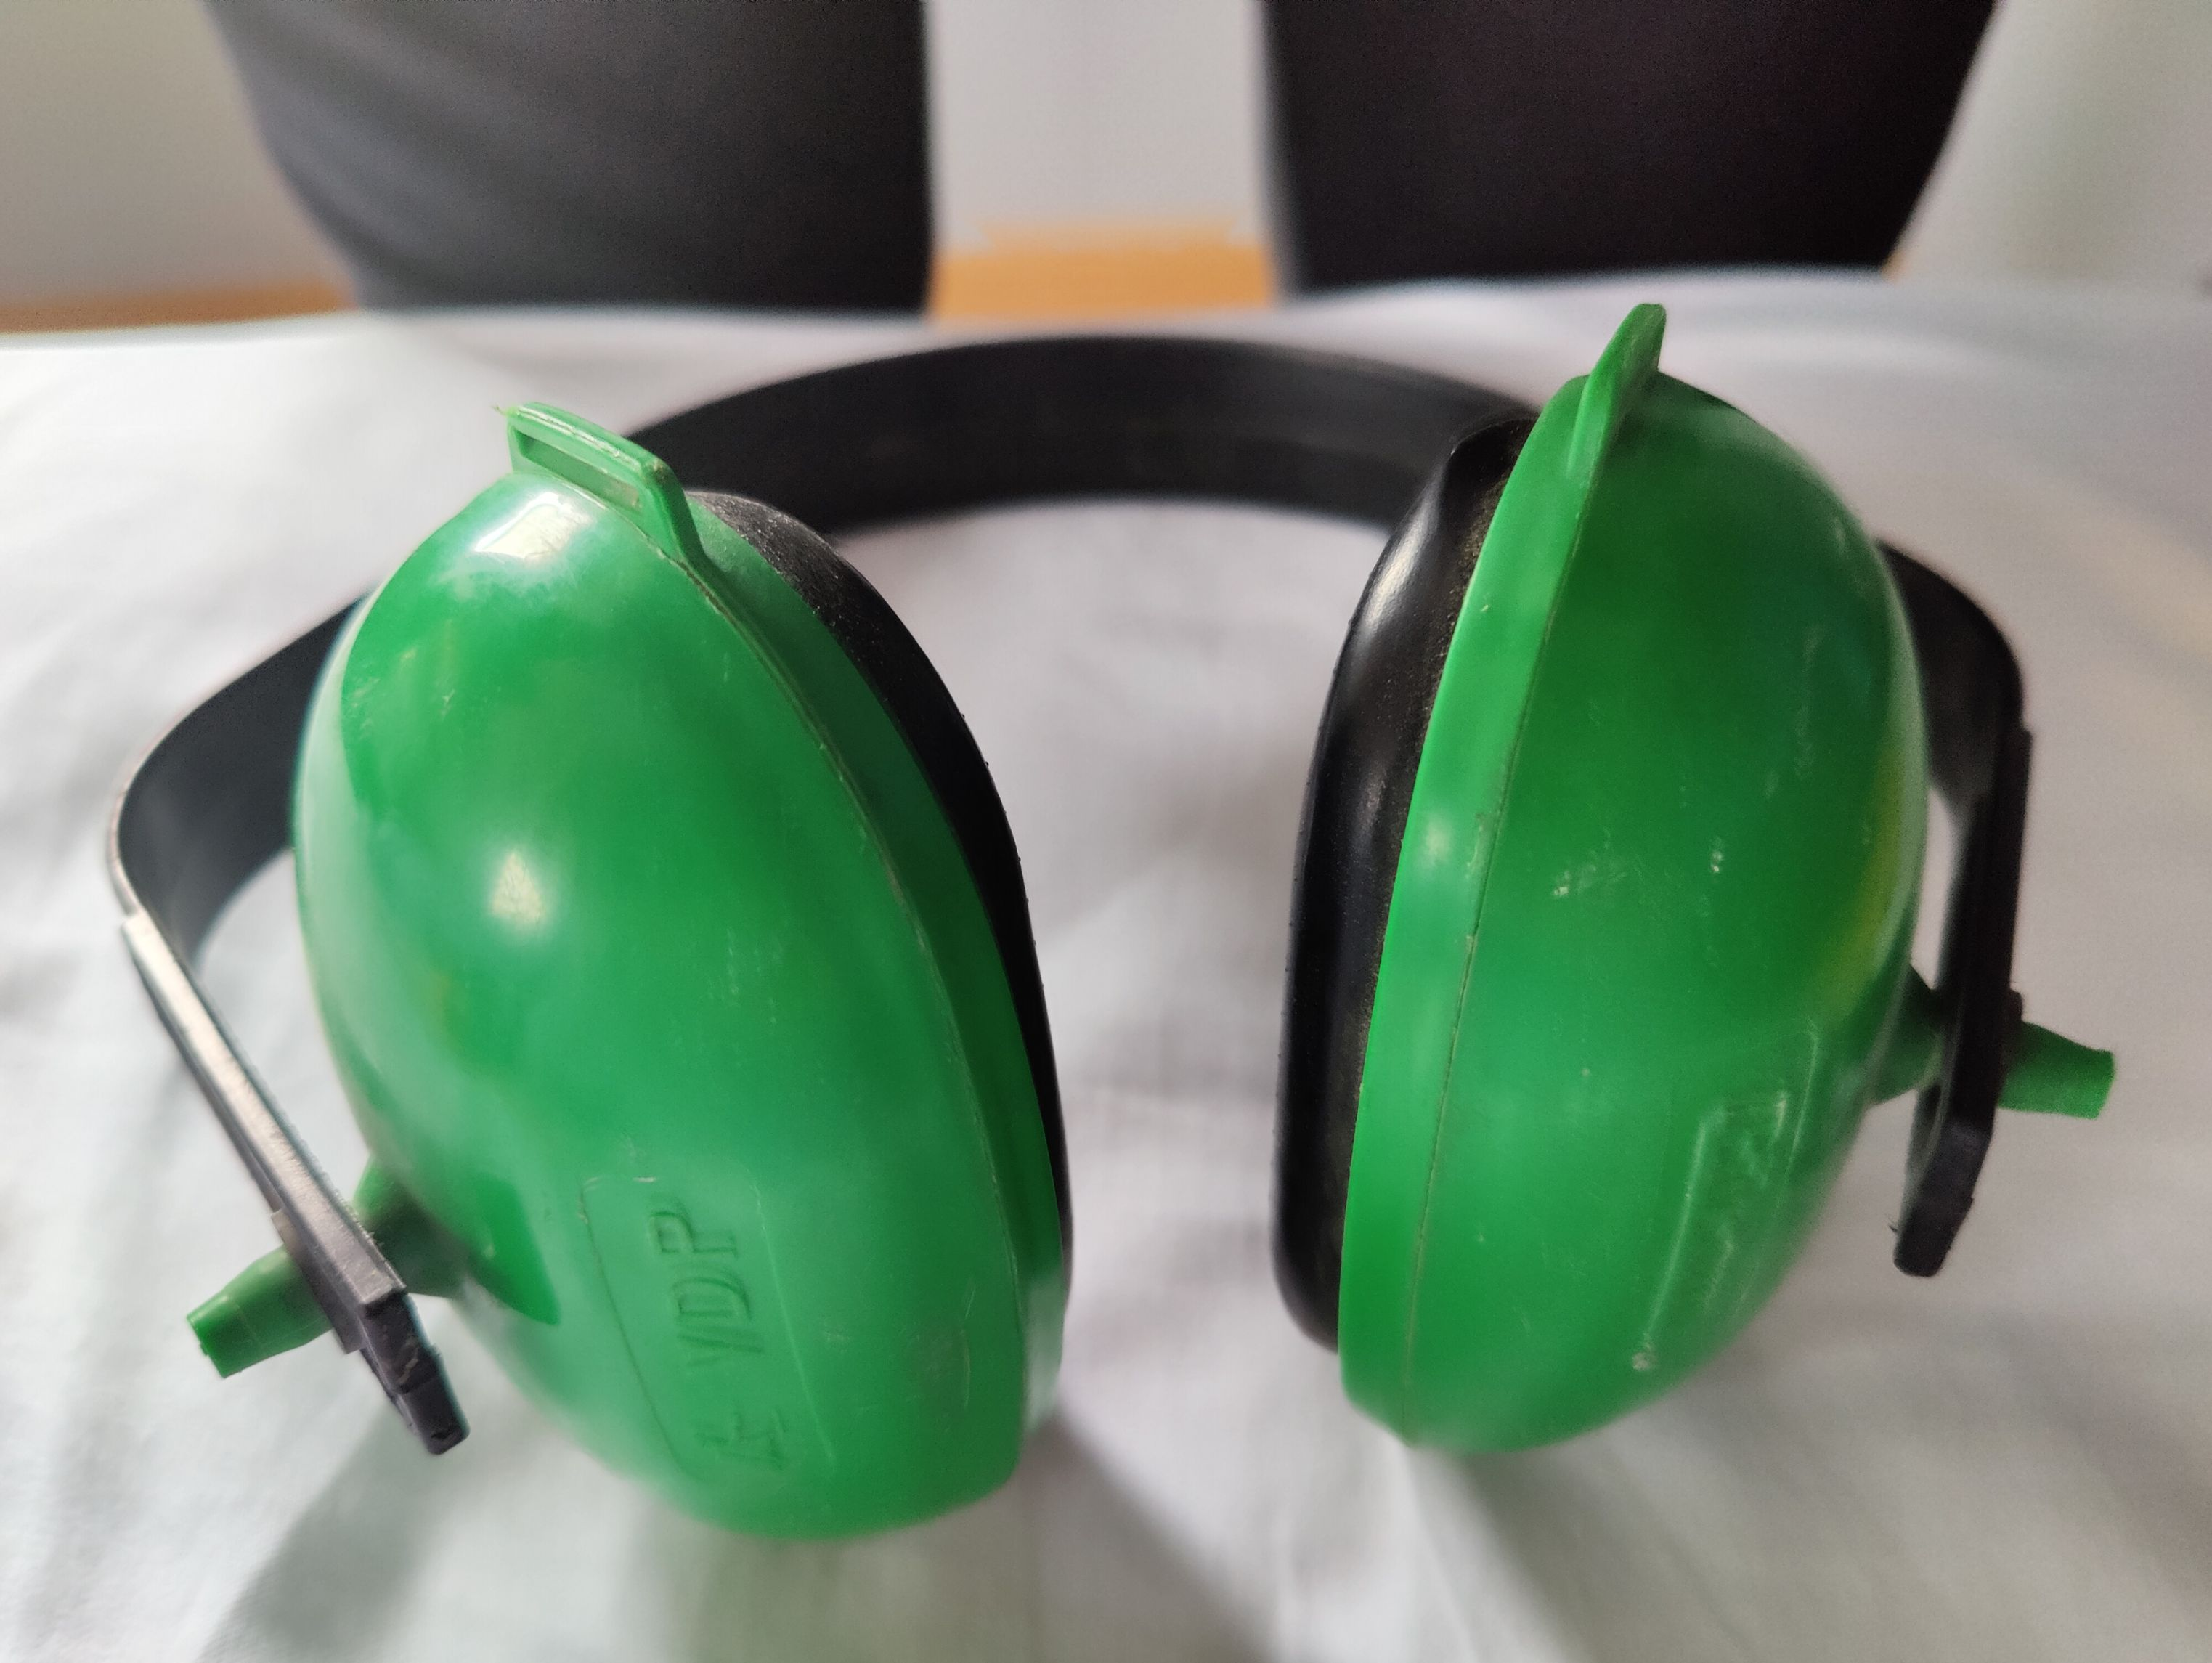headphones: (103, 306, 2118, 1544)
